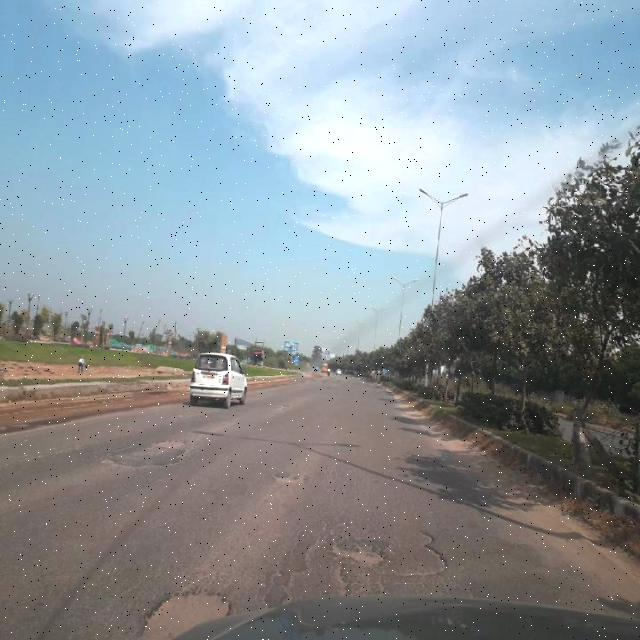D20: (254, 511, 465, 589), (314, 460, 373, 495)
D40: (269, 523, 447, 600), (124, 582, 236, 635), (325, 536, 383, 577), (144, 423, 188, 457), (266, 461, 309, 495)
